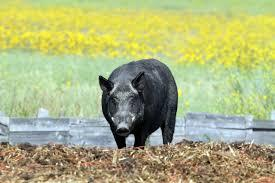wildboar: (96, 55, 180, 149)
